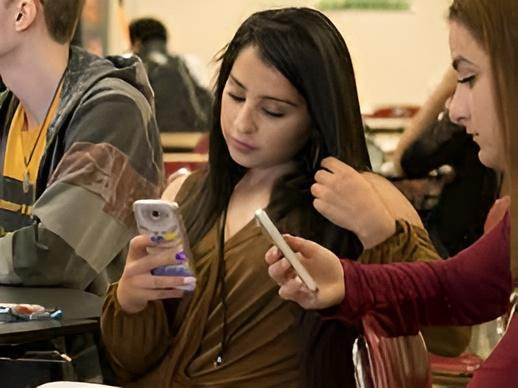phone: (107, 6, 472, 368), (252, 0, 518, 388)
